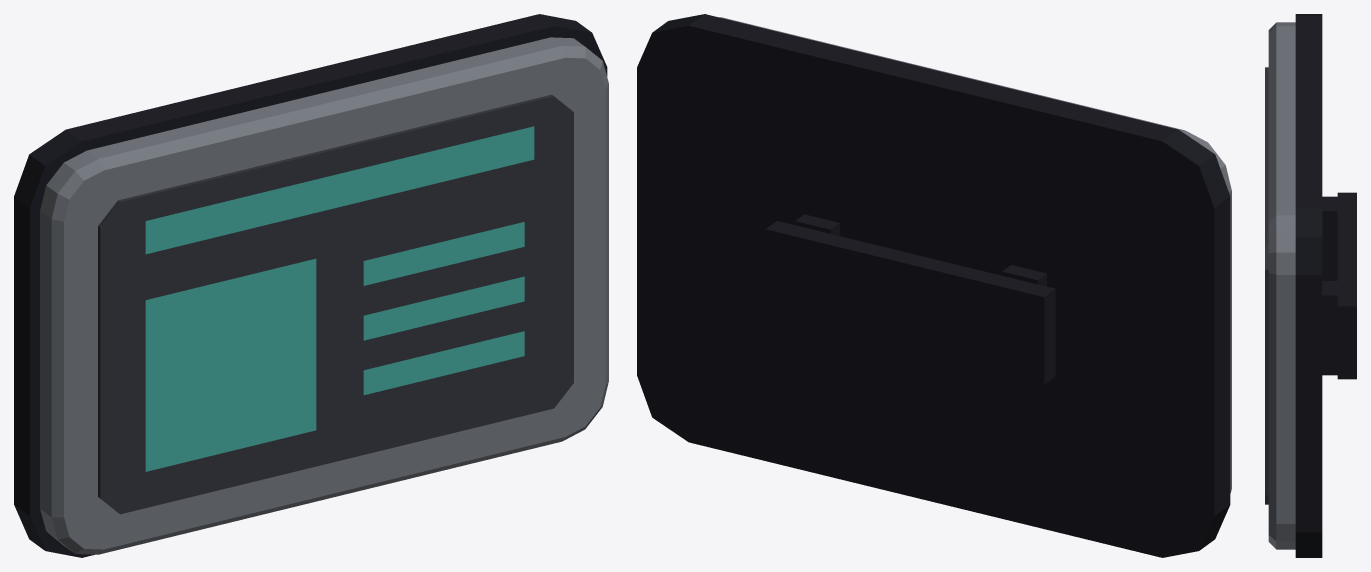
File: data-tablet-de5ac6.glb
3 views of the same model, side by side, from view 1: azimuth 30°, elevation 25°; view 2: azimuth 150°, elevation 25°; view 3: azimuth 270°, elevation 25° (orthographic). The views are drawn at different scales.
Size of the model in its own units: 0.29 by 0.2 by 0.0505.
